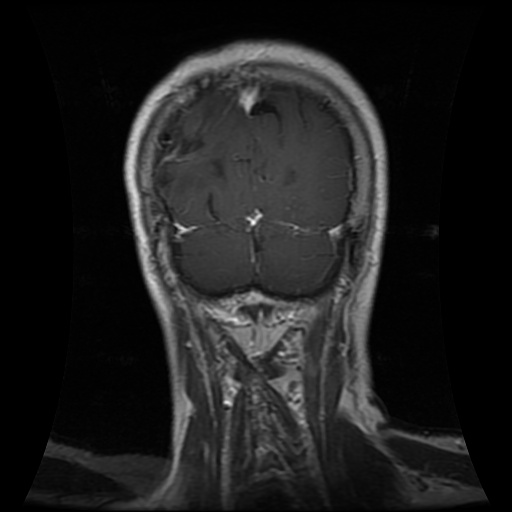glioma: (157, 90, 234, 211)
